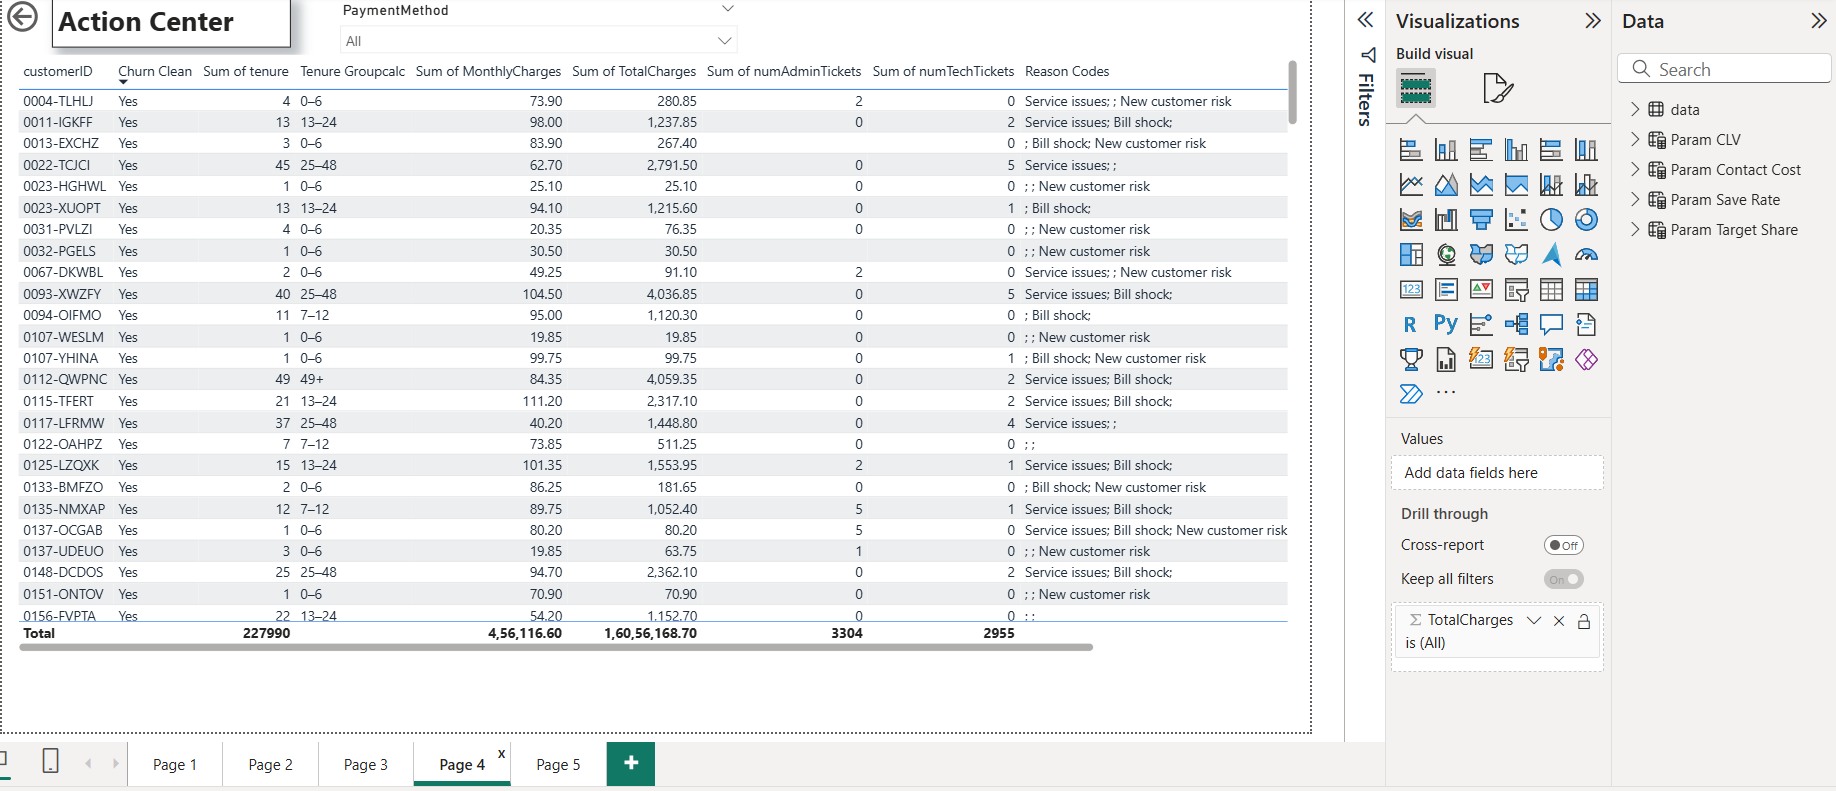

What the dashboard file says about the page in this screenshot:
{"tool":"powerbi","page":{"name":"Page 4","canvas":[1280,720],"ordinal":3},"visuals":[{"type":"textbox","box":[48.9,0,233.3,50],"z":0},{"type":"tableEx","fields":{"Values":["data.customerID","data.Churn Clean","Sum(data.tenure)","data.Tenure Groupcalc","Sum(data.MonthlyCharges)","Sum(data.TotalCharges)","Sum(data.numAdminTickets)","Sum(data.numTechTickets)","data.Reason Codes","data.Recommended Action"]},"box":[10,57.8,1262.2,588.9],"z":1},{"type":"actionButton","box":[0,0,48.9,40],"z":2},{"type":"slicer","fields":{"Values":["data.PaymentMethod"]},"box":[320,0,408.9,57.8],"z":4}]}

Visuals, with their boxes on the page's 1280x720 design canvas (x1, y1, x2, y2). These are canvas units, not pixel positions in the 1836x791 screenshot, which may show the page scaled, cropped or inside an application window:
textbox: bbox=[49, 0, 282, 50]
tableEx - data.customerID x data.Churn Clean: bbox=[10, 58, 1272, 647]
actionButton: bbox=[0, 0, 49, 40]
slicer - data.PaymentMethod: bbox=[320, 0, 729, 58]
